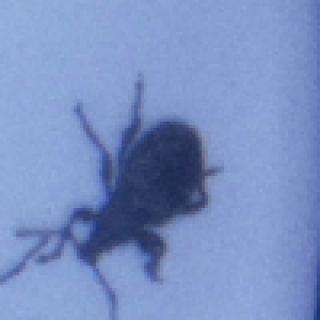bvw: (0, 67, 221, 317)
